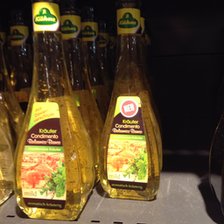vinegar: (12, 1, 91, 221), (98, 7, 167, 200)
